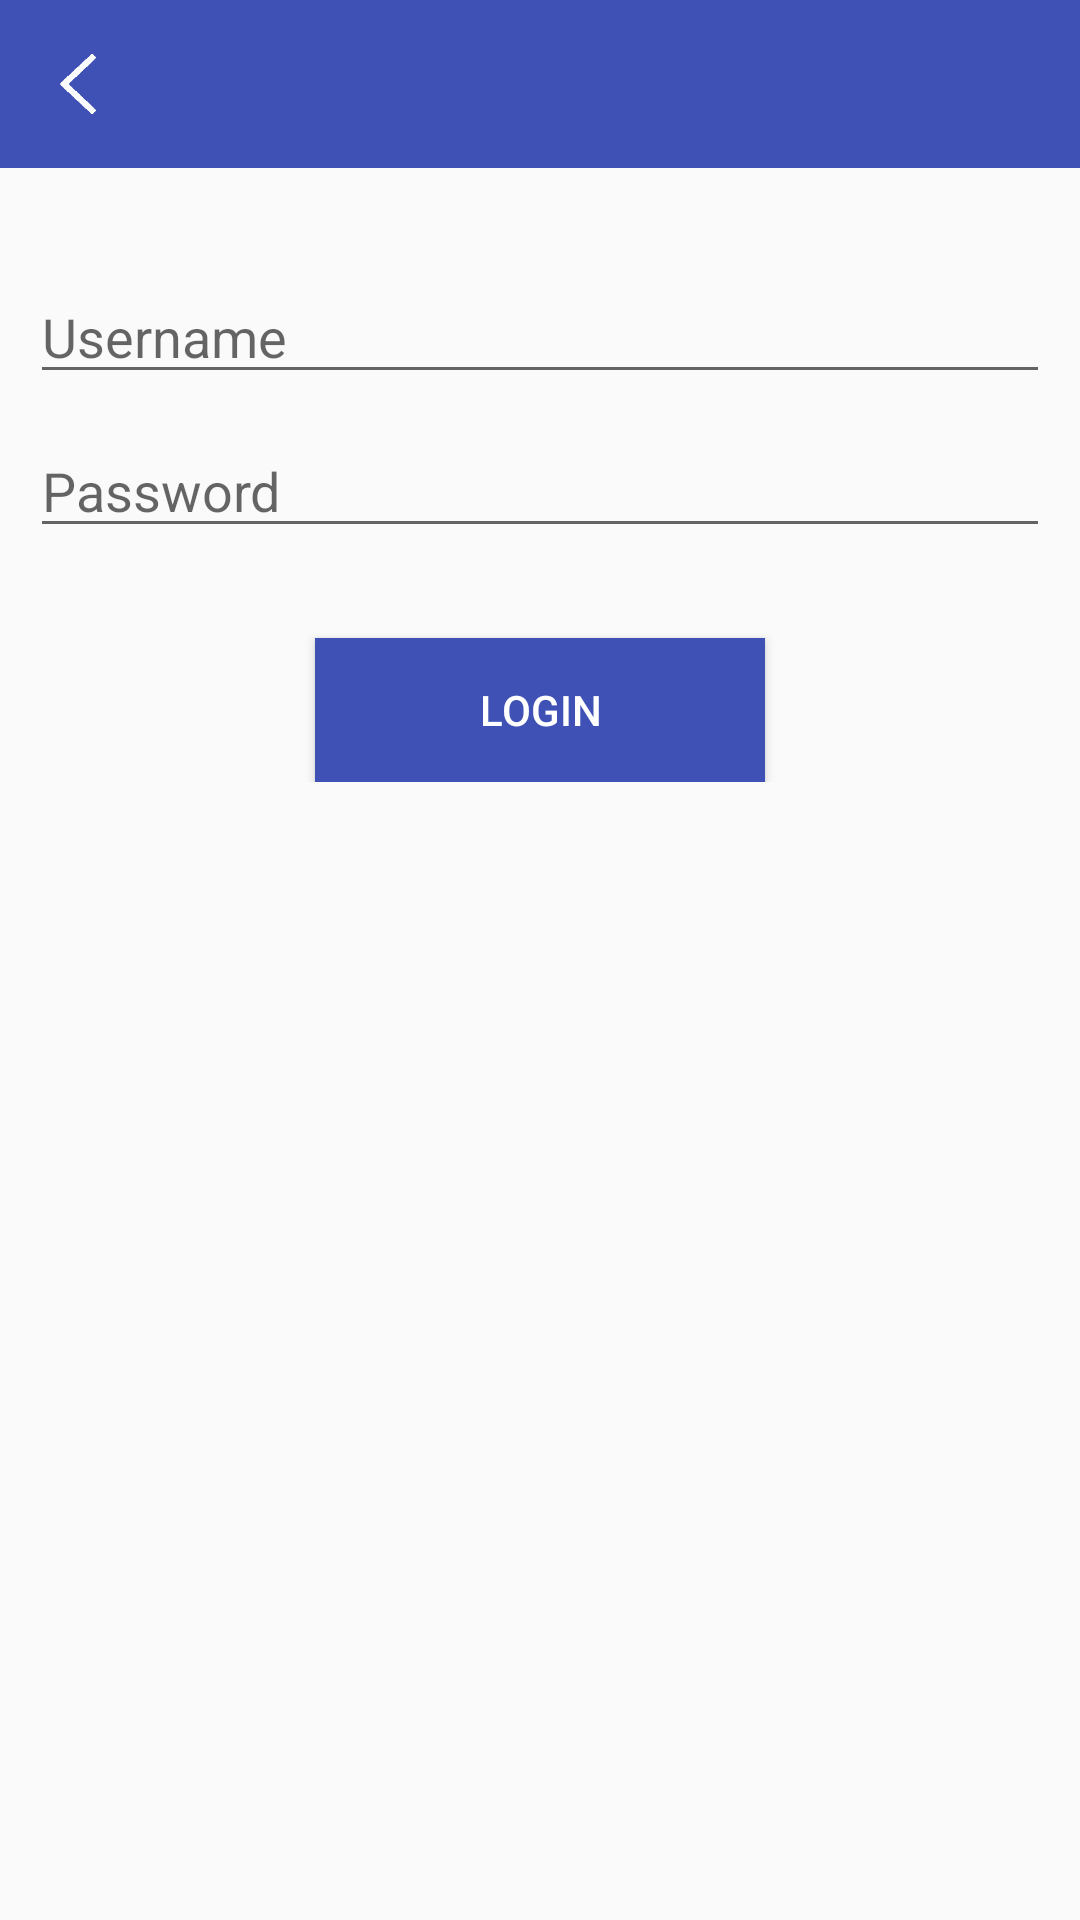

Where icons sit on this 1080 x 1920 app screen, as Rect(x1, y1, x2, y2):
arrow left: Rect(60, 54, 96, 114)
